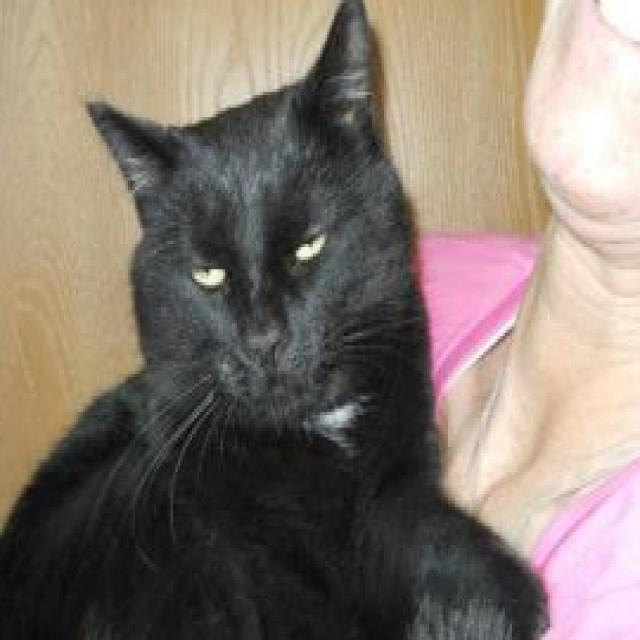Bombay: (0, 0, 550, 640)
